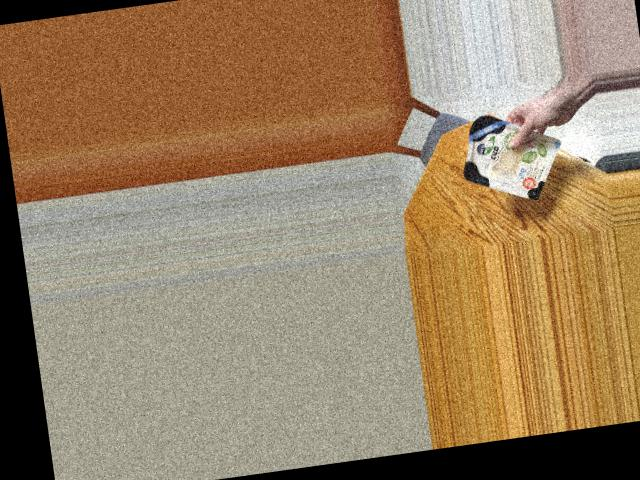cheese: (454, 101, 557, 204)
